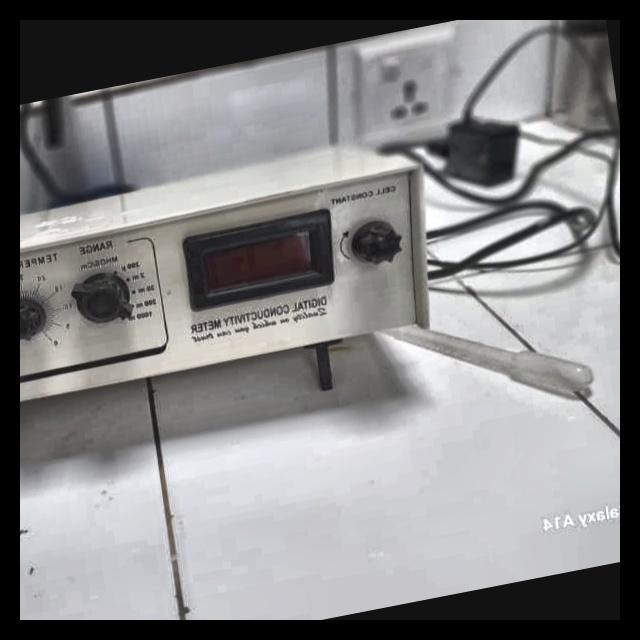Conductivity Meter: (20, 144, 452, 449)
